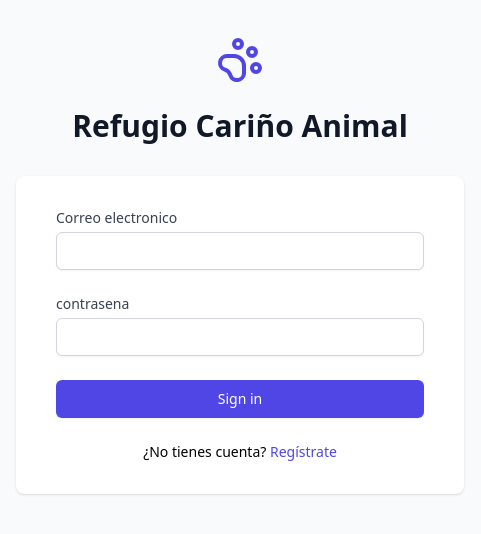
LoginForm › Funcionalidad de login › debe mostrar mensaje genérico cuando no hay error específico
Type "test@example.com" into the field labelled "Correo electronico". click: (240, 251)
box: [56,232,424,270]
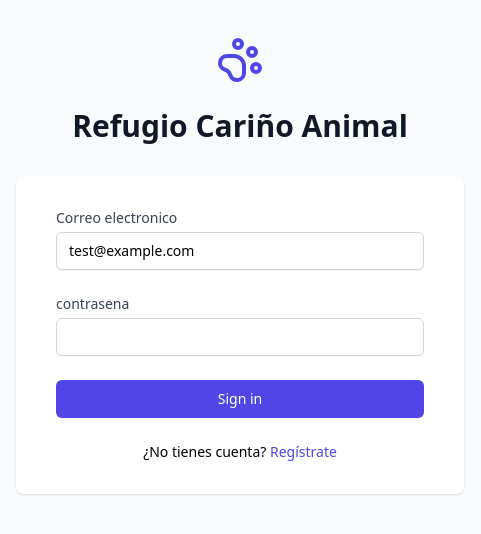
Type "123456" into the password field labelled "contrasena". click: (240, 337)
box: [56,318,424,356]
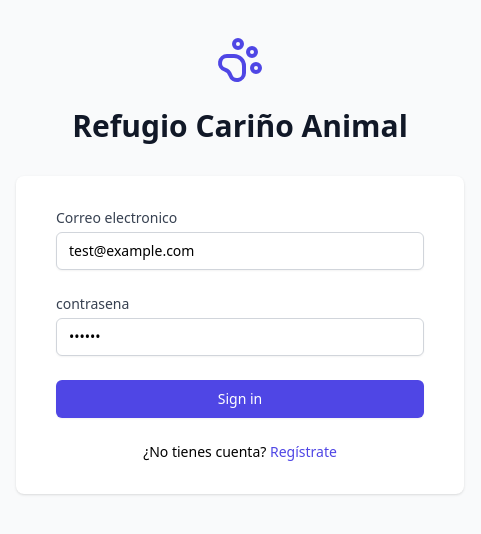
Click the button "Sign in". click: (240, 399)
box: [56,380,424,418]
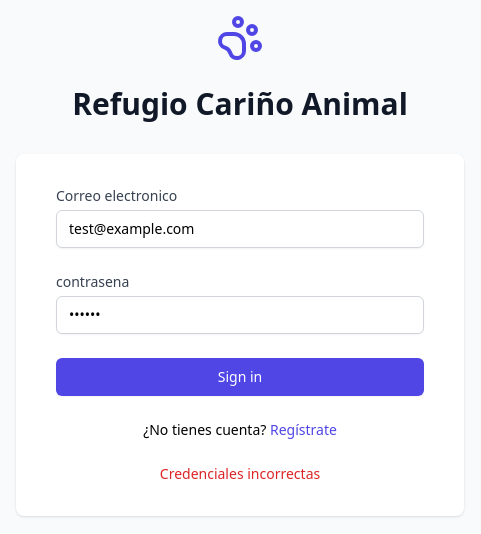
Result: the text "Credenciales incorrectas" is shown at [160,464,320,483]
